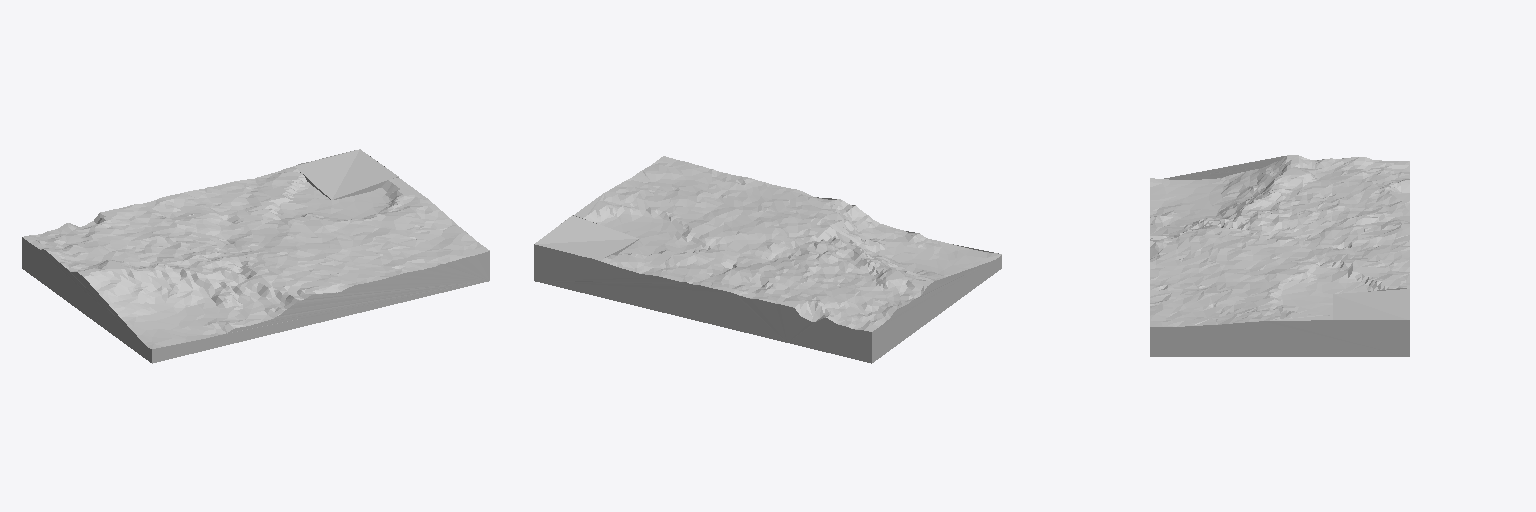
File: site_1.obj
3 views of the same model, side by side, from view 1: azimuth 30°, elevation 25°; view 2: azimuth 150°, elevation 25°; view 3: azimuth 270°, elevation 25° (orthographic).
Parts seen in each view (by area): view 1: Cube_Cube.001; view 2: Cube_Cube.001; view 3: Cube_Cube.001.
Part boxes in pixels (x1,y1,x2,y2): Cube_Cube.001: (22,149,489,363); Cube_Cube.001: (534,156,1001,363); Cube_Cube.001: (1150,155,1409,356).
Bounding box in the file's own units: 27.12 × 2.88 × 18.06.